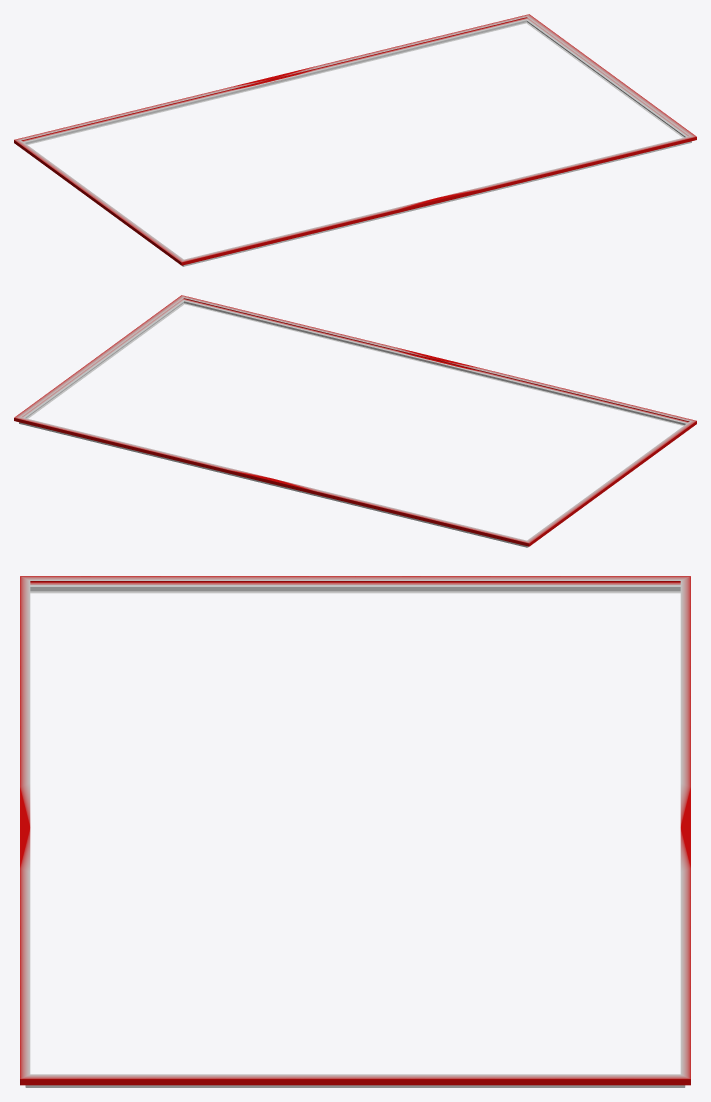
File: SM_Building_01_Roof_Trim_01.FBX
3 renders of one model, top to bottom at view 1: azimuth 30°, elevation 25°; view 2: azimuth 150°, elevation 25°; view 3: azimuth 270°, elevation 25°, orthographic. The views are drawn at different scales.
Visible parts, largest first — view 1: SM_Building_01_Roof_Trim_01; view 2: SM_Building_01_Roof_Trim_01; view 3: SM_Building_01_Roof_Trim_01.
Boxes of the visible parts, left/top/right/bottom form: SM_Building_01_Roof_Trim_01: left=14, top=14, right=696, bottom=266; SM_Building_01_Roof_Trim_01: left=14, top=295, right=696, bottom=547; SM_Building_01_Roof_Trim_01: left=20, top=576, right=690, bottom=1087.
Size of what is drawn, in the model's own units: 3455 by 1947 by 39.08.
